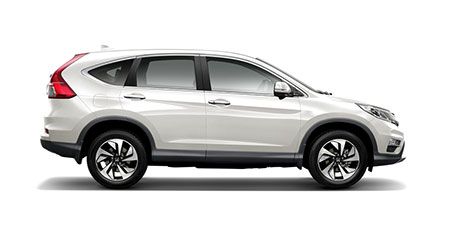pickup: (39, 40, 408, 189)
